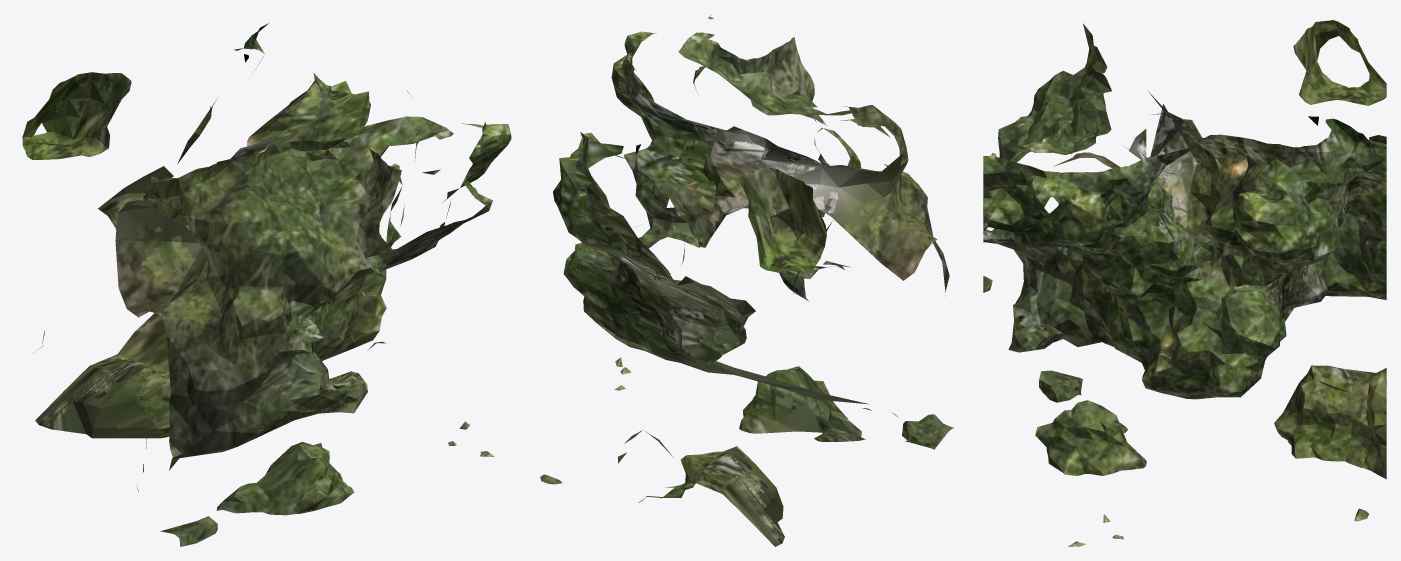
3 views of the same model, side by side, from view 1: azimuth 30°, elevation 25°; view 2: azimuth 150°, elevation 25°; view 3: azimuth 270°, elevation 25° (orthographic). The views are drawn at different scales.
Size of the model in its own units: 2.95 by 2.95 by 2.95.
Materials: 7 (7 with a texture image).
